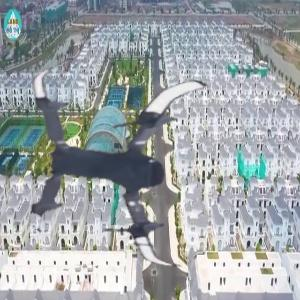drone: (20, 60, 236, 276)
